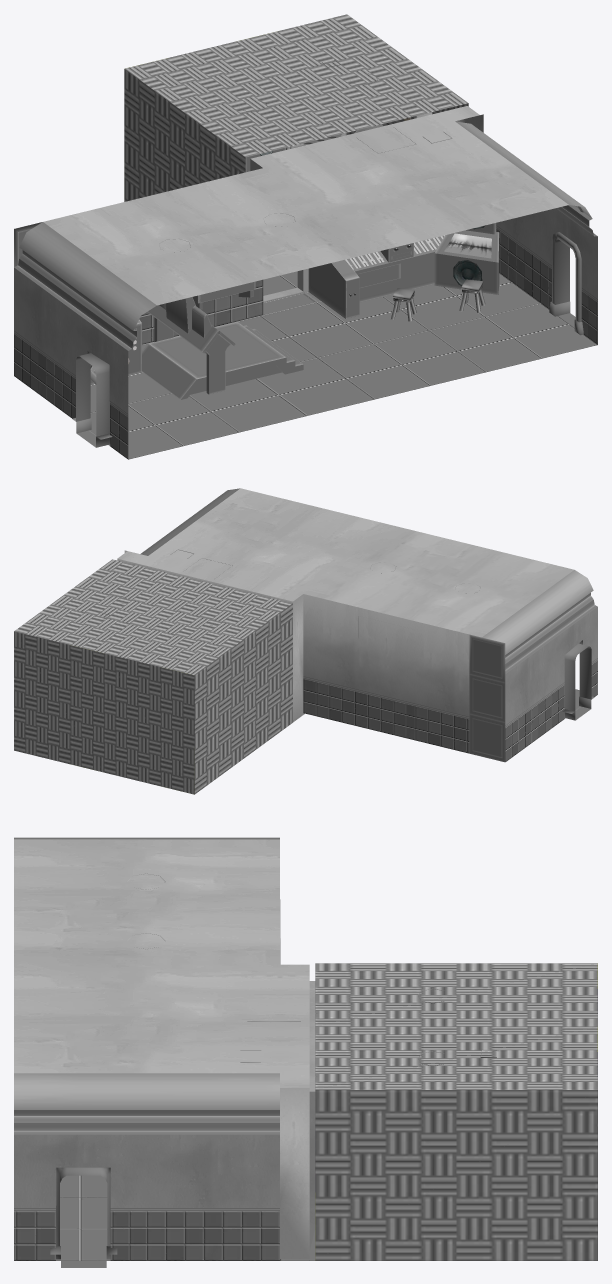
The model's file is MSH_Radio_station_room_L3_R2_optimized.fbx.
3 views of the same model, one above another, from view 1: azimuth 30°, elevation 25°; view 2: azimuth 150°, elevation 25°; view 3: azimuth 270°, elevation 25° (orthographic). The views are drawn at different scales.
Parts seen in each view (by area): view 1: lightmap1; view 2: lightmap1; view 3: lightmap1.
Boxes of the visible parts, x1=… form: lightmap1: x1=14, y1=14, x2=597, y2=459; lightmap1: x1=14, y1=488, x2=597, y2=794; lightmap1: x1=14, y1=837, x2=597, y2=1267.
Size of the model in its own units: 20.61 by 6.21 by 18.13.
Materials: 5 (3 with a texture image).
